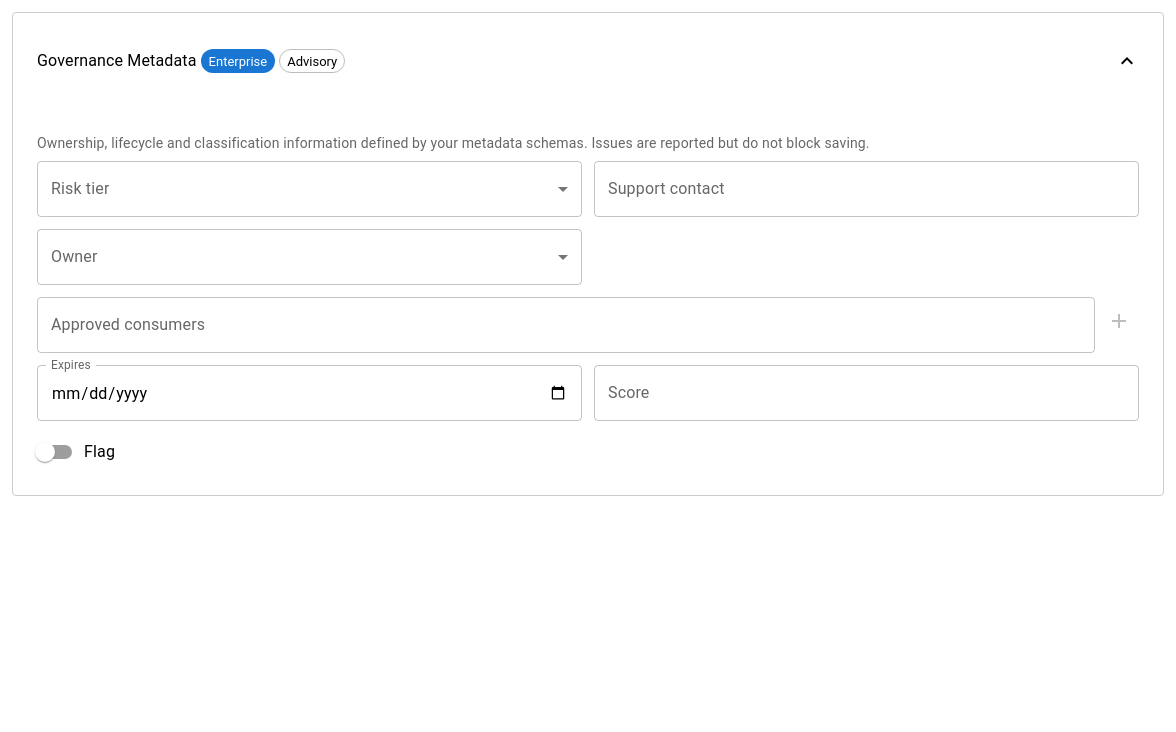
Test: GovernedMetadataFields › surfaces live validation warnings
Expected: the text "Governance Metadata" is shown, [37,49,197,73]
In the date field labelled "Expires": (310, 393) [37,365,582,421], type "2000-01-01"
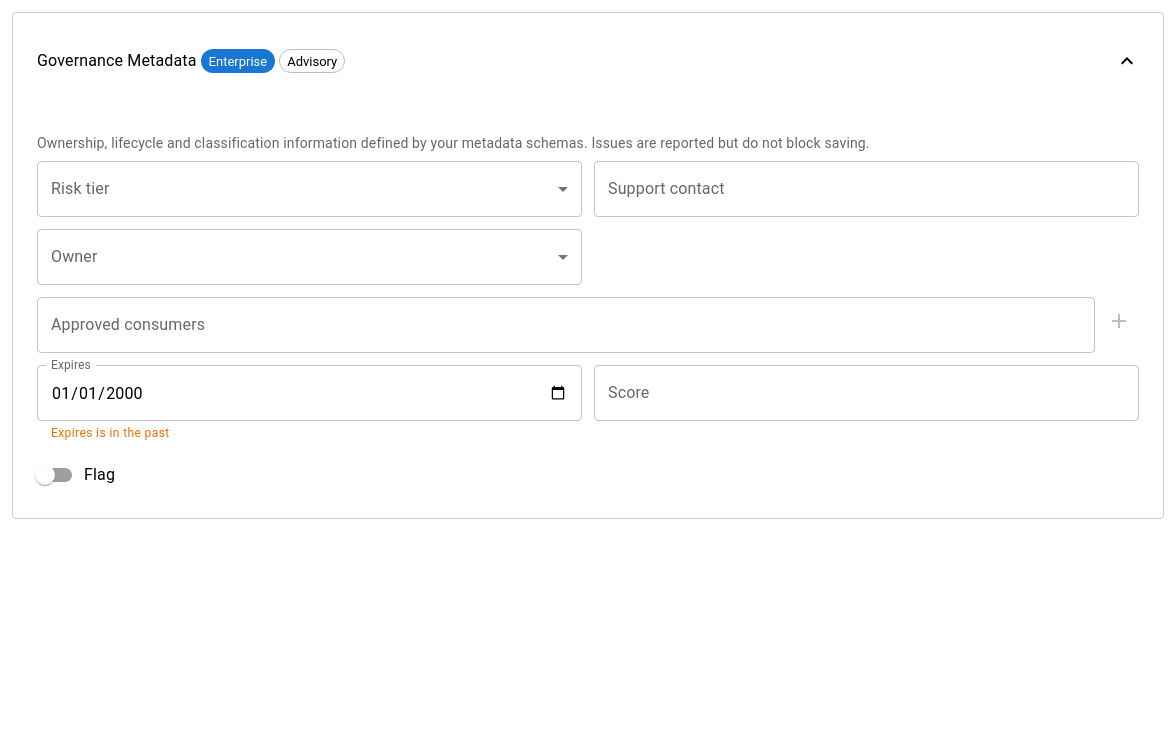
Expected: the text "Expires is in the past" is shown, [51,426,170,440]
